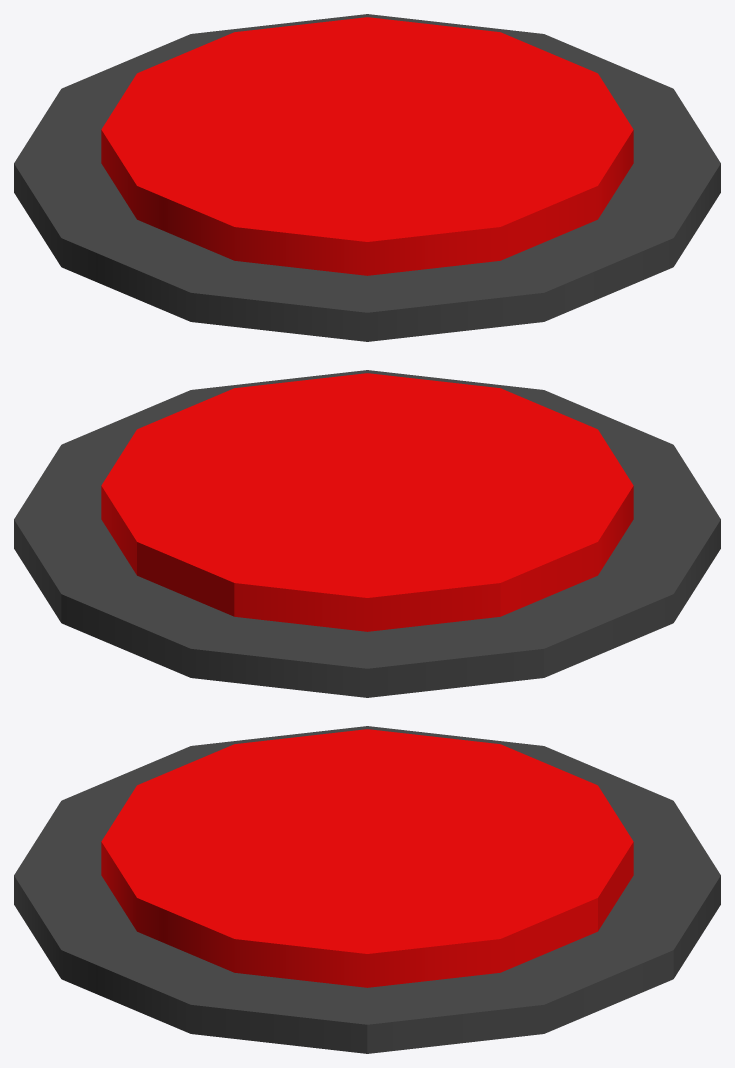
The model's file is Button_001.fbx.
3 views of the same model, one above another, from view 1: azimuth 30°, elevation 25°; view 2: azimuth 150°, elevation 25°; view 3: azimuth 270°, elevation 25° (orthographic).
Parts seen in each view (by area): view 1: Button, Button_Base; view 2: Button, Button_Base; view 3: Button, Button_Base.
Part boxes in pixels (x1,y1,x2,y2): Button: [101, 17, 633, 275]; Button_Base: [14, 14, 720, 341]; Button: [101, 373, 633, 631]; Button_Base: [14, 370, 720, 697]; Button: [101, 729, 633, 987]; Button_Base: [14, 726, 720, 1053].
Bounding box in the file's own units: 133 × 13.06 × 133.
